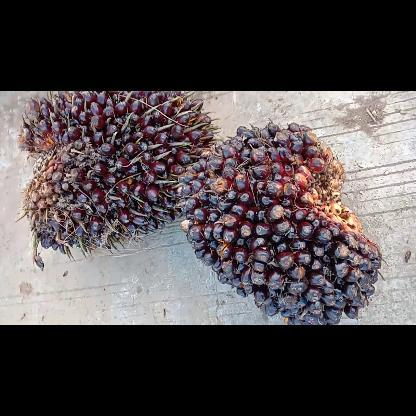TBS mentah: (182, 122, 382, 324), (17, 90, 216, 270)
